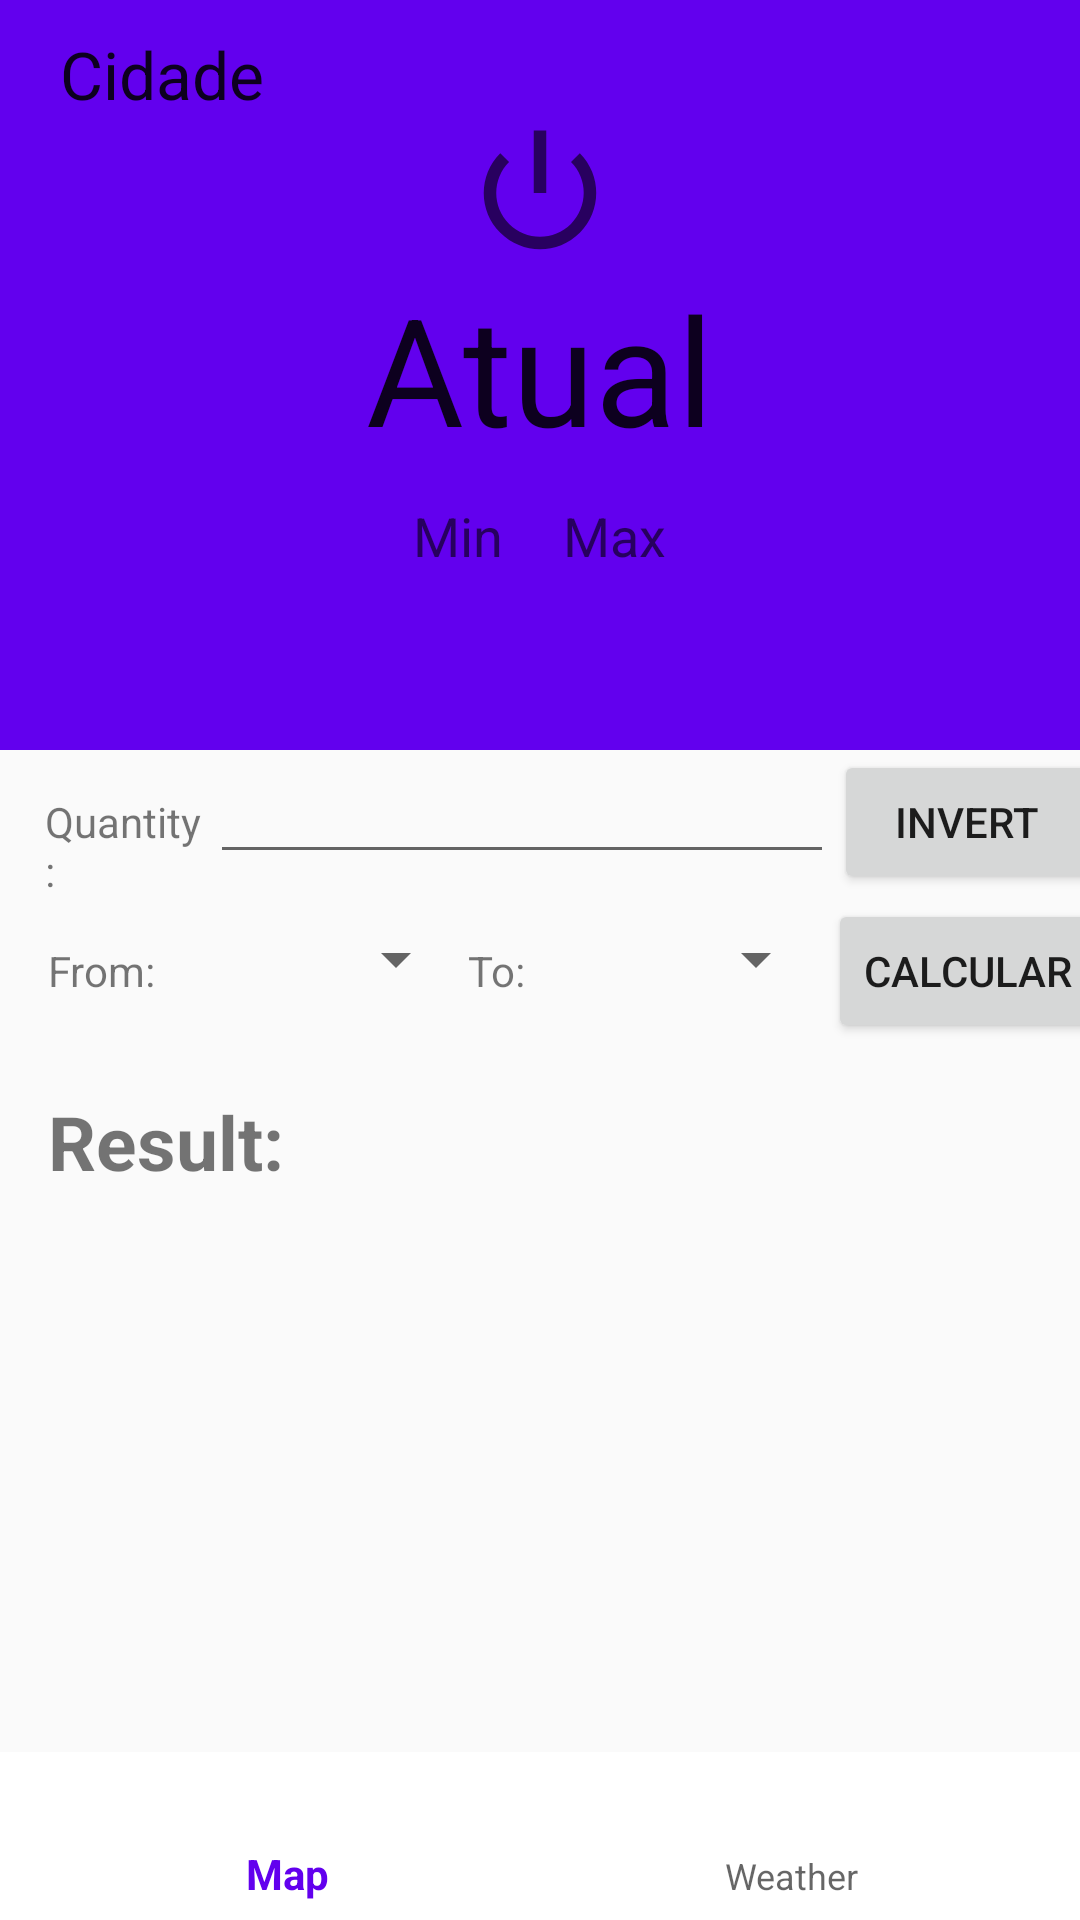

Screen size 1080 x 1920. Icon name, then its box in pixels as (x1, y1, x2, y2):
lock power off: (483, 130, 597, 250)
